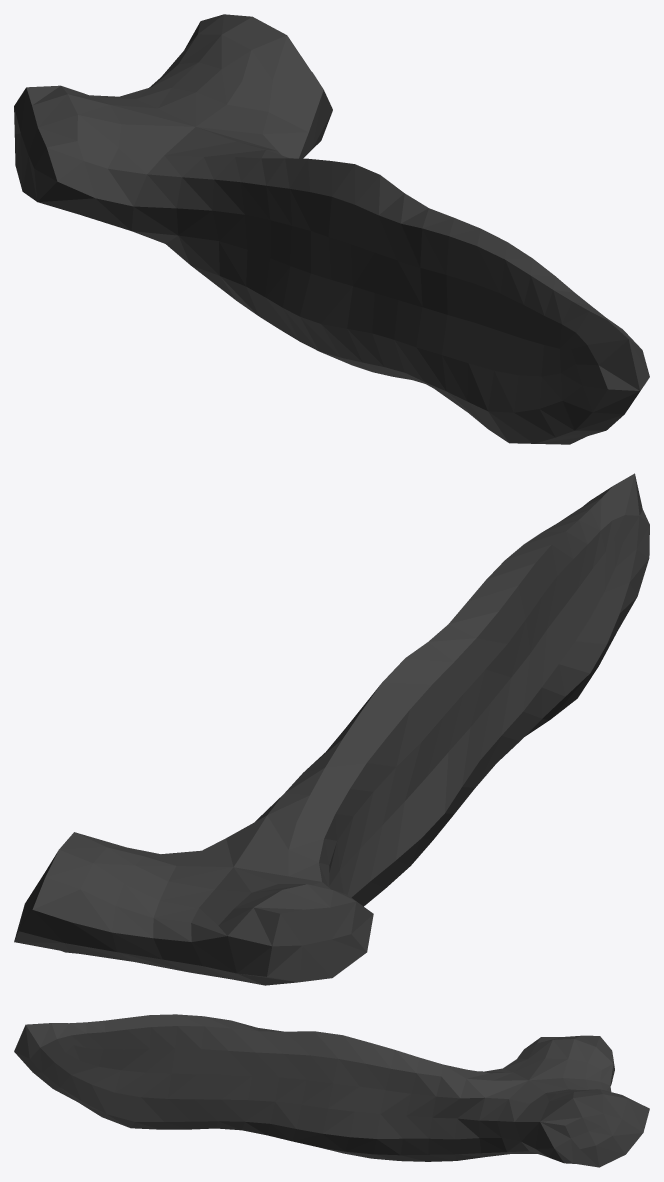
File: Basihyoid.glb
3 views of the same model, one above another, from view 1: azimuth 30°, elevation 25°; view 2: azimuth 150°, elevation 25°; view 3: azimuth 270°, elevation 25° (orthographic). The views are drawn at different scales.
Parts seen in each view (by area): view 1: Basihyoid; view 2: Basihyoid; view 3: Basihyoid.
Boxes of the visible parts, x1,y1,x2,y2 form: Basihyoid: (14,14,649,444); Basihyoid: (14,473,649,985); Basihyoid: (14,1014,649,1167).
Bounding box in the file's own units: 0.2494 × 0.1806 × 0.7377.
1 material, 1 textured.
